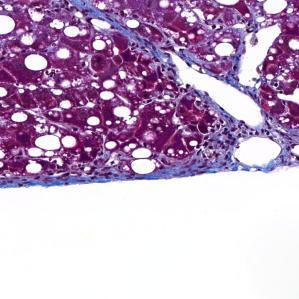fibrosis: (193, 113, 250, 173)
